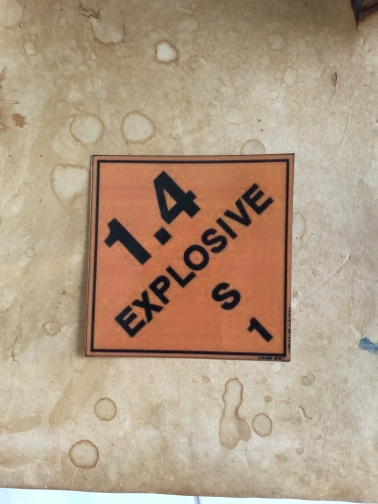Explosive: (88, 149, 293, 362)
